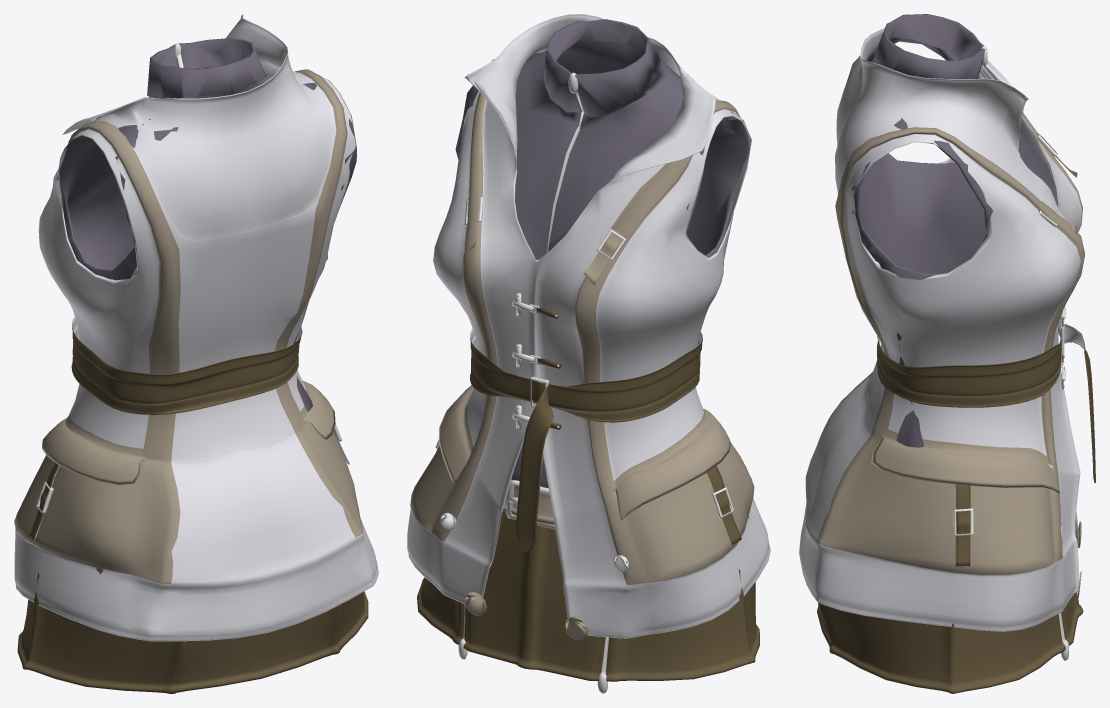
The model's file is lightningArmor.fbx.
3 renders of one model, left to right at view 1: azimuth 30°, elevation 25°; view 2: azimuth 150°, elevation 25°; view 3: azimuth 270°, elevation 25°, orthographic. The views are drawn at different scales.
Parts seen in each view (by area): view 1: Mantle, Short, Shirt.001, Shirt.003; view 2: Mantle, Shirt.001, Short, Shirt.002, Shirt.003, Button, Circle.001; view 3: Mantle, Shirt.001, Short, Shirt.003.
Boxes of the visible parts, x1,y1,x2,y2 form: Mantle: [14, 14, 378, 641]; Short: [17, 567, 368, 693]; Shirt.001: [57, 38, 356, 411]; Shirt.003: [28, 424, 349, 541]; Mantle: [407, 14, 770, 638]; Shirt.001: [455, 19, 748, 488]; Short: [417, 511, 759, 693]; Shirt.002: [464, 197, 626, 284]; Shirt.003: [435, 439, 741, 544]; Button: [464, 592, 588, 639]; Circle.001: [502, 479, 554, 524]; Mantle: [799, 28, 1095, 631]; Shirt.001: [852, 14, 1058, 447]; Short: [817, 592, 1083, 693]; Shirt.003: [953, 484, 973, 566].
Bounding box in the file's own units: 3.73 × 6.32 × 2.86.
